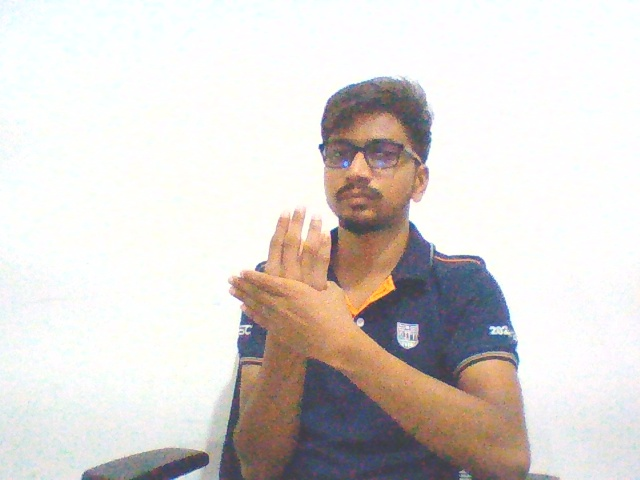tree: (214, 192, 366, 370)
